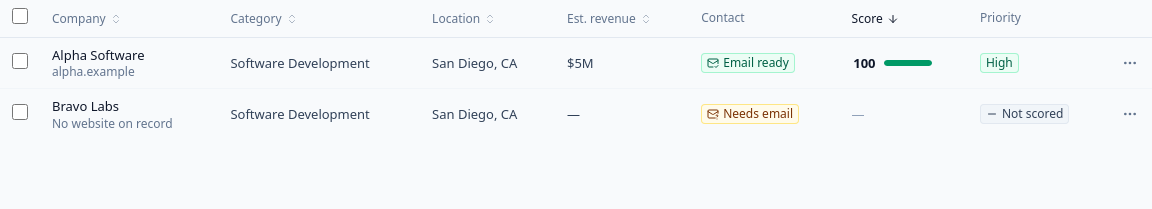
LeadTable › opens details from the company name and exports from the row menu
The width and height of the screenshot is (1152, 209).
Click the button "Alpha Software". click: (98, 55)
box: [52,46,144,64]
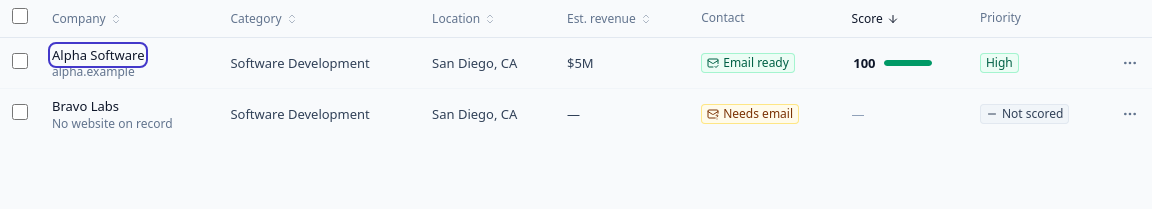
Click the button named "Actions for Alpha Software". click: (1130, 63)
box: [1116,49,1144,77]
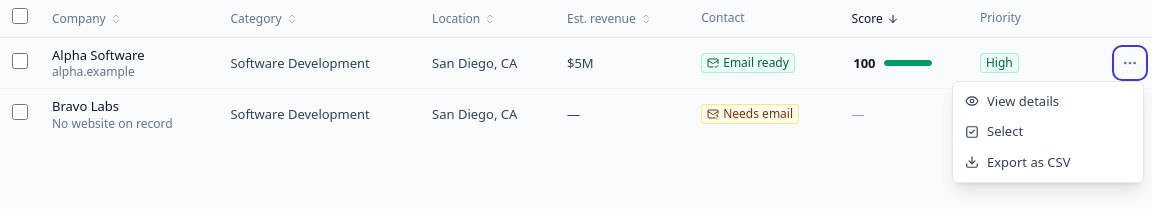
Click the menu item "Export as CSV". click: (1048, 162)
box: [957,147,1139,178]
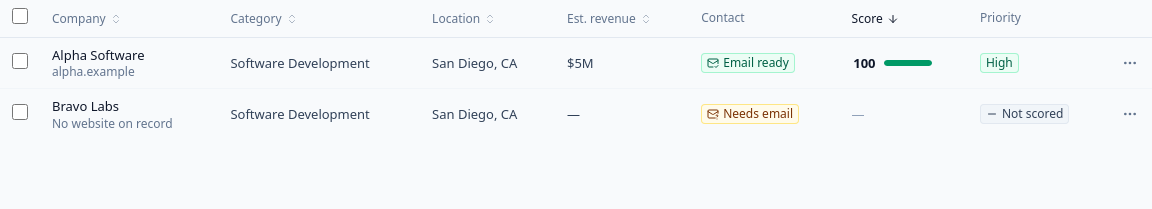
Check: the menu is gone
